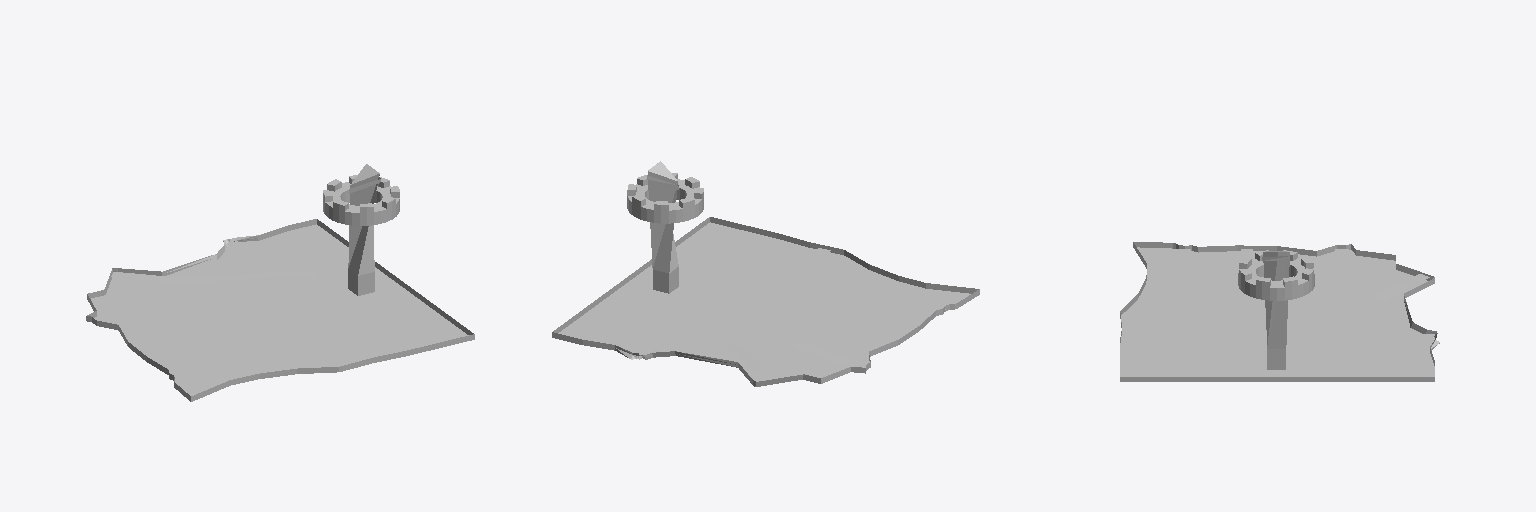
The model's file is map.obj.
The picture shows the model from 3 angles: view 1: azimuth 30°, elevation 25°; view 2: azimuth 150°, elevation 25°; view 3: azimuth 270°, elevation 25°; orthographic projection.
Visible parts, largest first — view 1: Plane.006, Circle, Cube, Plane, Plane.004, Plane.003, Plane.001, Plane.002; view 2: Plane.006, Cube, Circle, Plane, Plane.004, Plane.003, Plane.001, Plane.002; view 3: Plane.006, Circle, Cube, Plane.004, Plane.001, Plane.002, Plane.003.
Boxes of the visible parts, <box> form: Plane.006: <box>86,219,474,401</box>; Circle: <box>323,175,399,225</box>; Cube: <box>348,164,379,295</box>; Plane: <box>143,291,328,357</box>; Plane.004: <box>111,270,314,282</box>; Plane.003: <box>94,303,245,330</box>; Plane.001: <box>174,342,322,381</box>; Plane.002: <box>309,314,358,363</box>; Plane.006: <box>552,217,979,386</box>; Cube: <box>648,161,678,293</box>; Circle: <box>627,173,703,223</box>; Plane: <box>691,294,913,333</box>; Plane.004: <box>655,308,771,380</box>; Plane.003: <box>778,308,866,367</box>; Plane.001: <box>798,271,945,309</box>; Plane.002: <box>723,248,830,284</box>; Plane.006: <box>1120,242,1439,381</box>; Circle: <box>1238,250,1314,300</box>; Cube: <box>1263,251,1289,369</box>; Plane.004: <box>1324,274,1429,352</box>; Plane.001: <box>1177,249,1190,319</box>; Plane.002: <box>1122,320,1229,346</box>; Plane.003: <box>1254,249,1348,300</box>.
Bounding box in the file's own units: 59.18 × 24.79 × 59.47.